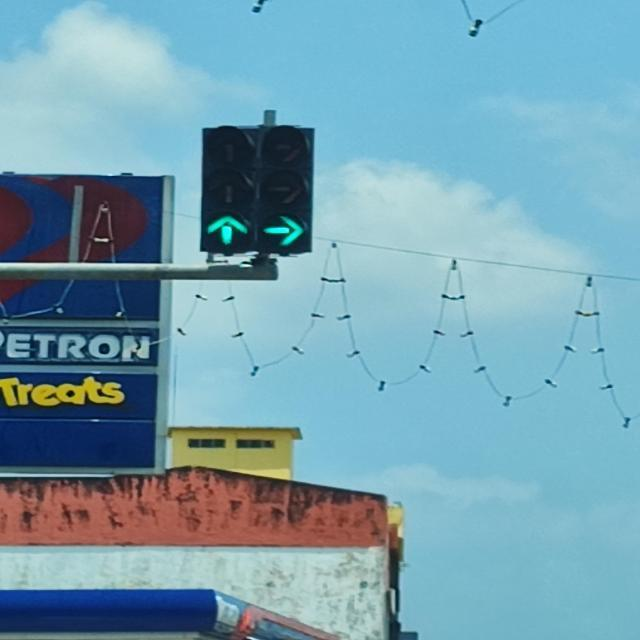green_light: (199, 126, 263, 255), (262, 129, 314, 257)
